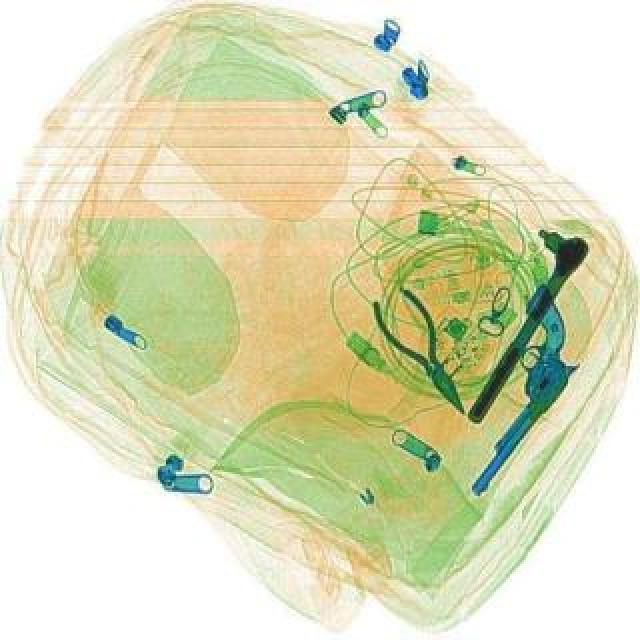gun: (410, 286, 616, 502)
wrench: (368, 284, 488, 428)
